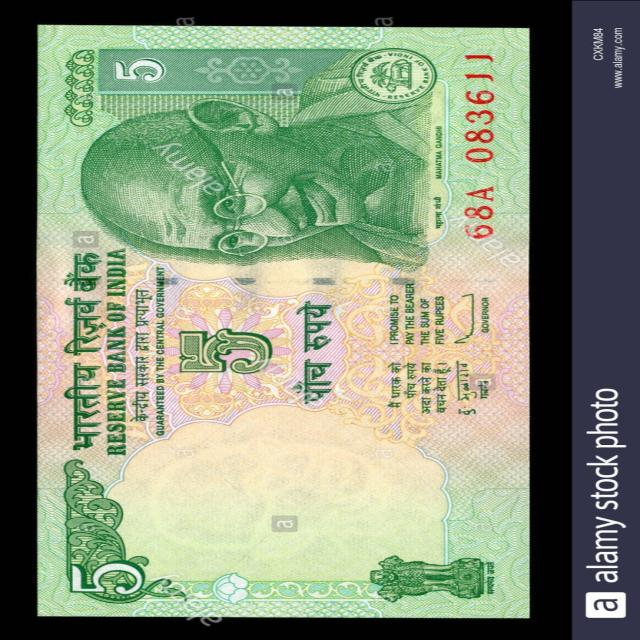5IndianRupees: (42, 25, 535, 615)
